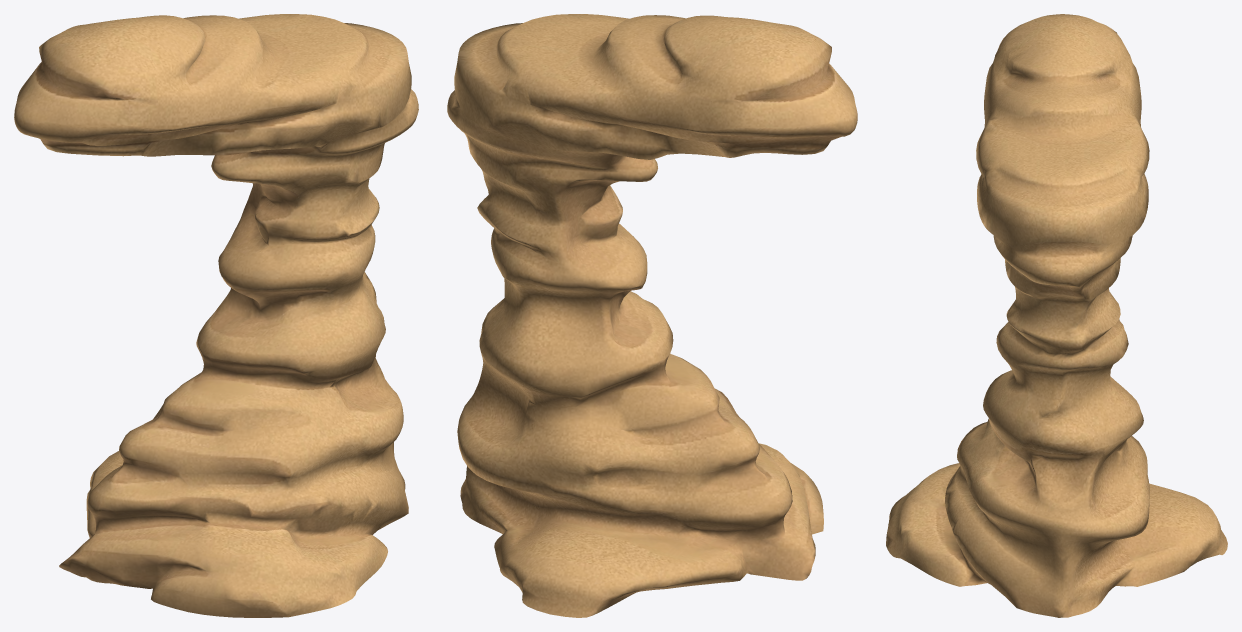
Rendered from tripo_convert_3084b0b4-632d-4742-bd0b-0af45cad5e63.fbx.
The picture shows the model from 3 angles, left to right: view 1: azimuth 30°, elevation 25°; view 2: azimuth 150°, elevation 25°; view 3: azimuth 270°, elevation 25°; orthographic projection. The views are drawn at different scales.
Parts seen in each view (by area): view 1: tripo_node_3084b0b4; view 2: tripo_node_3084b0b4; view 3: tripo_node_3084b0b4.
Boxes of the visible parts, x1,y1,x2,y2 form: tripo_node_3084b0b4: (14,14,418,617); tripo_node_3084b0b4: (447,14,857,617); tripo_node_3084b0b4: (886,14,1227,617).
Size of the model in its own units: 0.771 by 0.9995 by 0.6577.
1 material, 1 textured.
